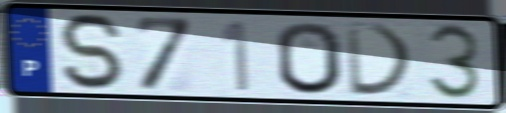1: (220, 18, 252, 95)
3: (424, 21, 483, 103)
7: (134, 14, 193, 94)
D: (343, 20, 418, 98)
O: (273, 19, 345, 97)
S: (55, 11, 129, 93)
